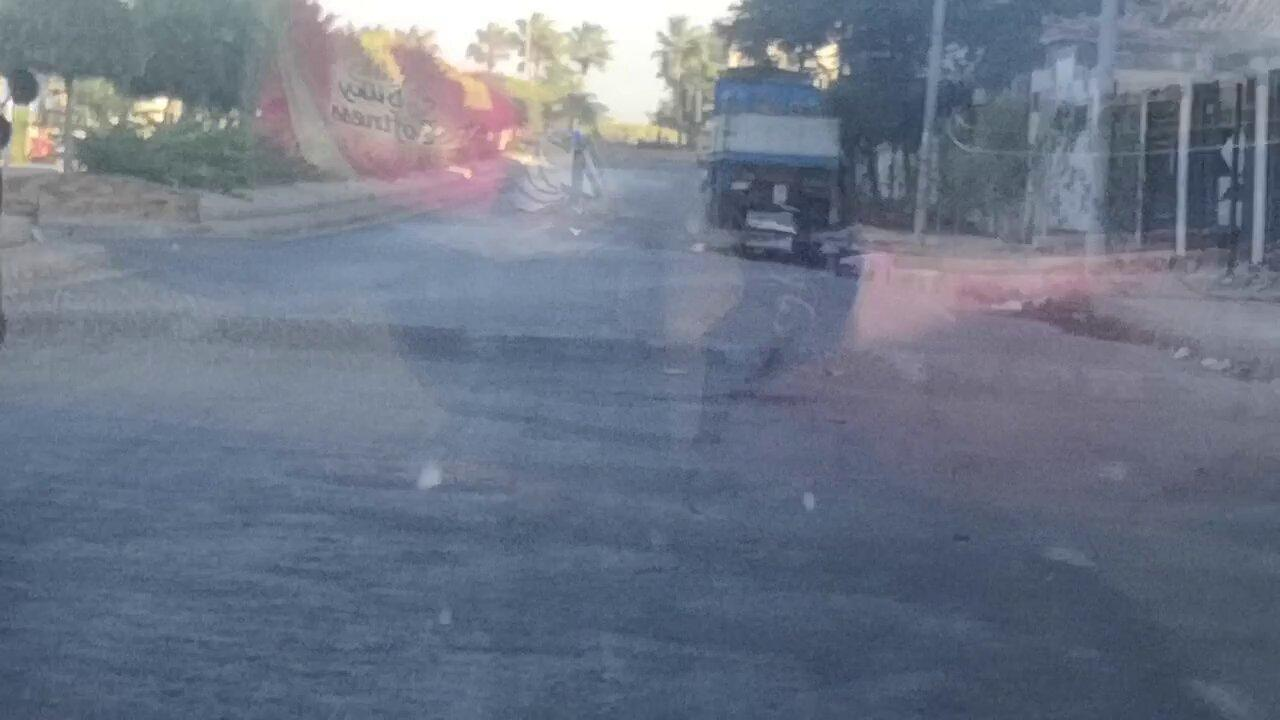Bump: (0, 309, 1279, 418)
